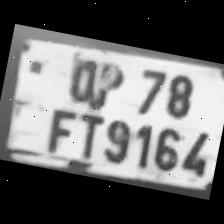1: (126, 116, 158, 169)
4: (177, 123, 215, 179)
6: (146, 118, 186, 174)
7: (127, 62, 168, 118)
8: (158, 66, 199, 122)
9: (96, 111, 136, 166)
F: (39, 102, 80, 158)
P: (86, 58, 130, 112)
T: (68, 106, 105, 161)
U: (59, 50, 105, 107)
